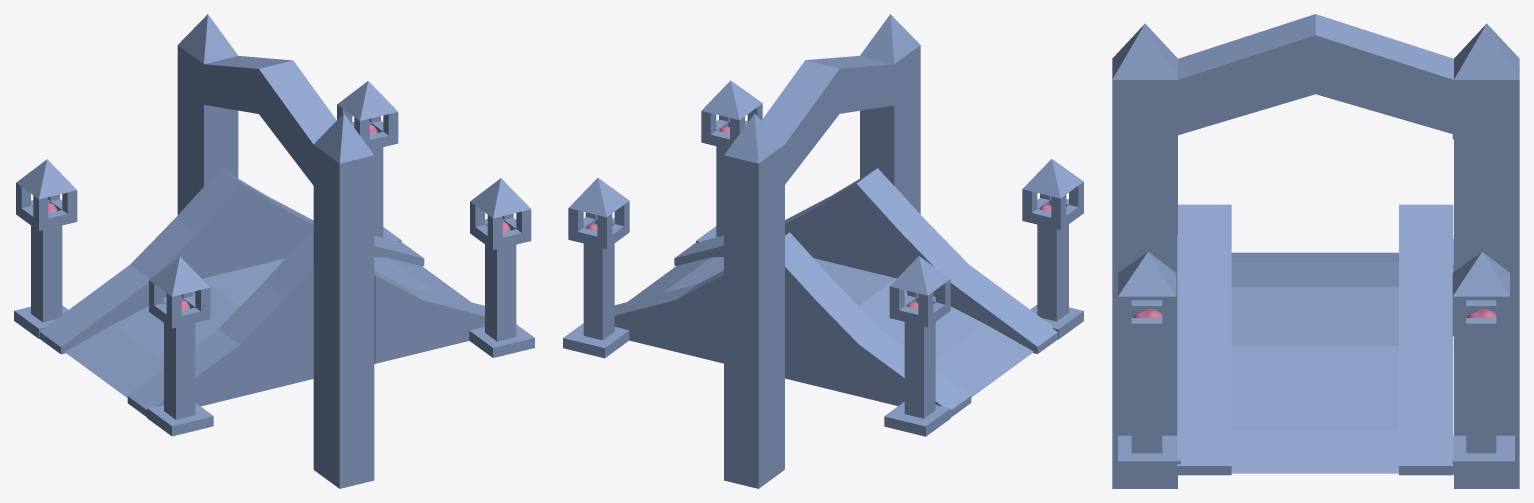
Rendered from prop_bridge.fbx.
The picture shows the model from 3 angles, left to right: view 1: azimuth 30°, elevation 25°; view 2: azimuth 150°, elevation 25°; view 3: azimuth 270°, elevation 25°; orthographic projection. The views are drawn at different scales.
Parts seen in each view (by area): view 1: prop_bridge; view 2: prop_bridge; view 3: prop_bridge.
Part boxes in pixels (x1,y1,x2,y2): prop_bridge: [14, 14, 534, 488]; prop_bridge: [563, 14, 1083, 488]; prop_bridge: [1112, 14, 1519, 488].
Size of the model in its own units: 1604 by 1522 by 1236.
